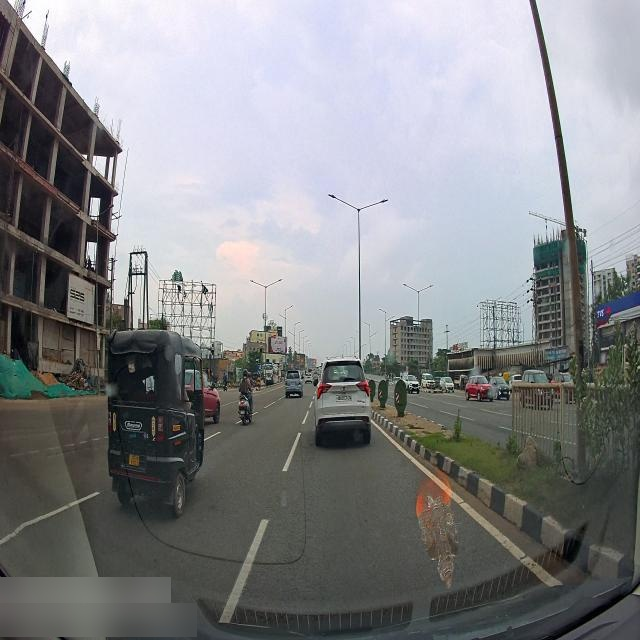pothole: (302, 438, 314, 448)
